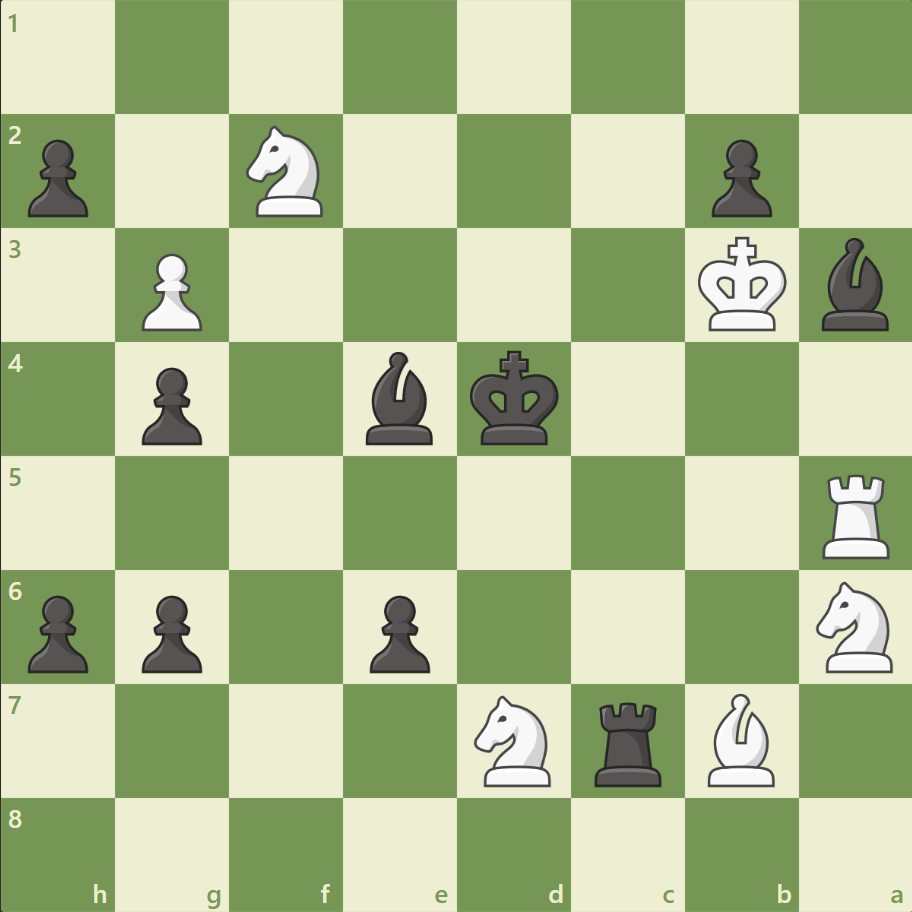B: (698, 687, 782, 790)
K: (692, 231, 792, 339)
N: (465, 688, 562, 791), (806, 575, 903, 677), (238, 121, 335, 223)
P: (133, 246, 208, 337)
R: (814, 466, 897, 563)
b: (812, 233, 896, 336), (358, 347, 442, 449)
k: (465, 344, 565, 452)
p: (133, 586, 208, 677), (20, 586, 95, 677), (133, 359, 208, 450), (701, 132, 776, 223), (20, 132, 95, 223), (361, 586, 435, 677)
r: (587, 693, 670, 790)
